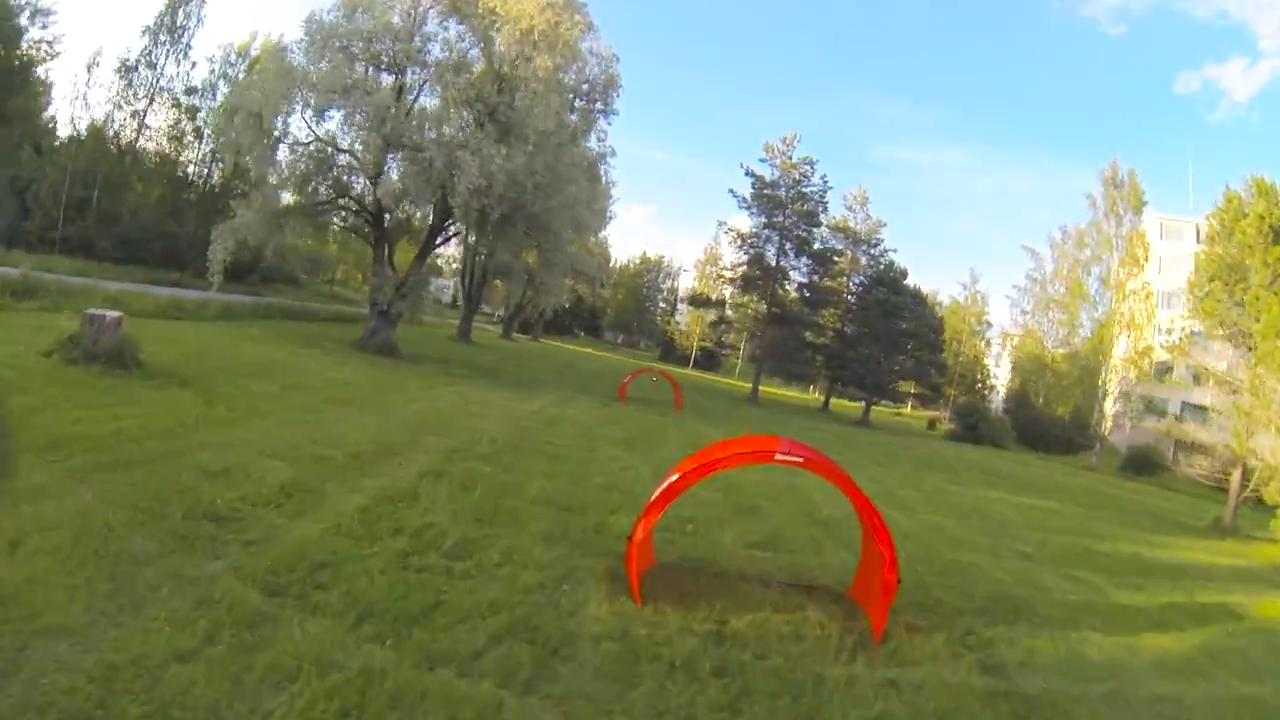gate: (625, 430, 902, 650)
